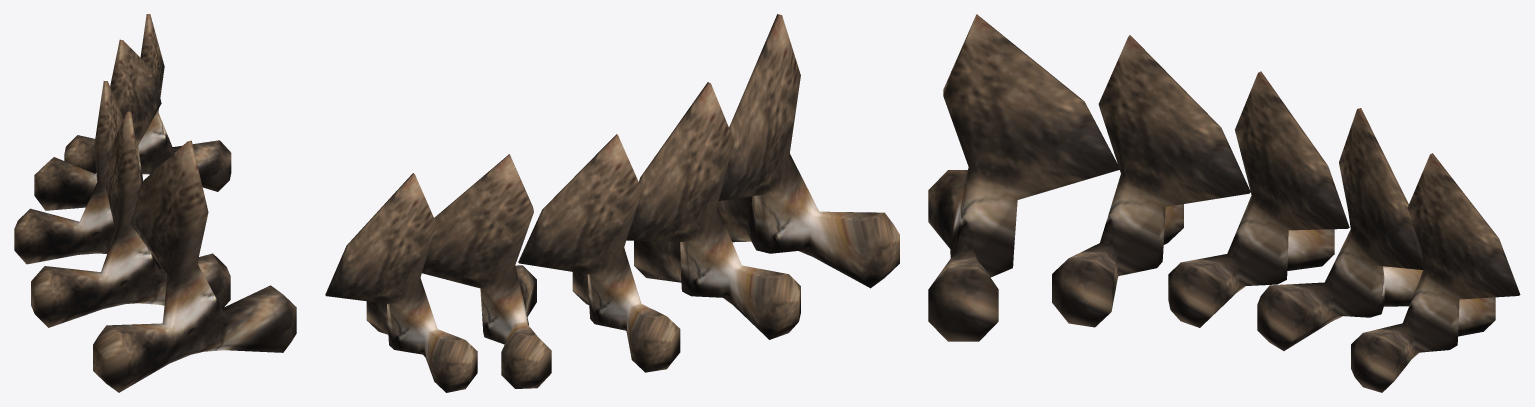
3 views of the same model, side by side, from view 1: azimuth 30°, elevation 25°; view 2: azimuth 150°, elevation 25°; view 3: azimuth 270°, elevation 25° (orthographic). The views are drawn at different scales.
Visible parts, largest first — view 1: SMDImport; view 2: SMDImport; view 3: SMDImport.
Part boxes in pixels (bbox=[...]): SMDImport: bbox=[14, 14, 296, 392]; SMDImport: bbox=[325, 14, 899, 392]; SMDImport: bbox=[928, 14, 1520, 392].
Bounding box in the file's own units: 211 × 151 × 293.
